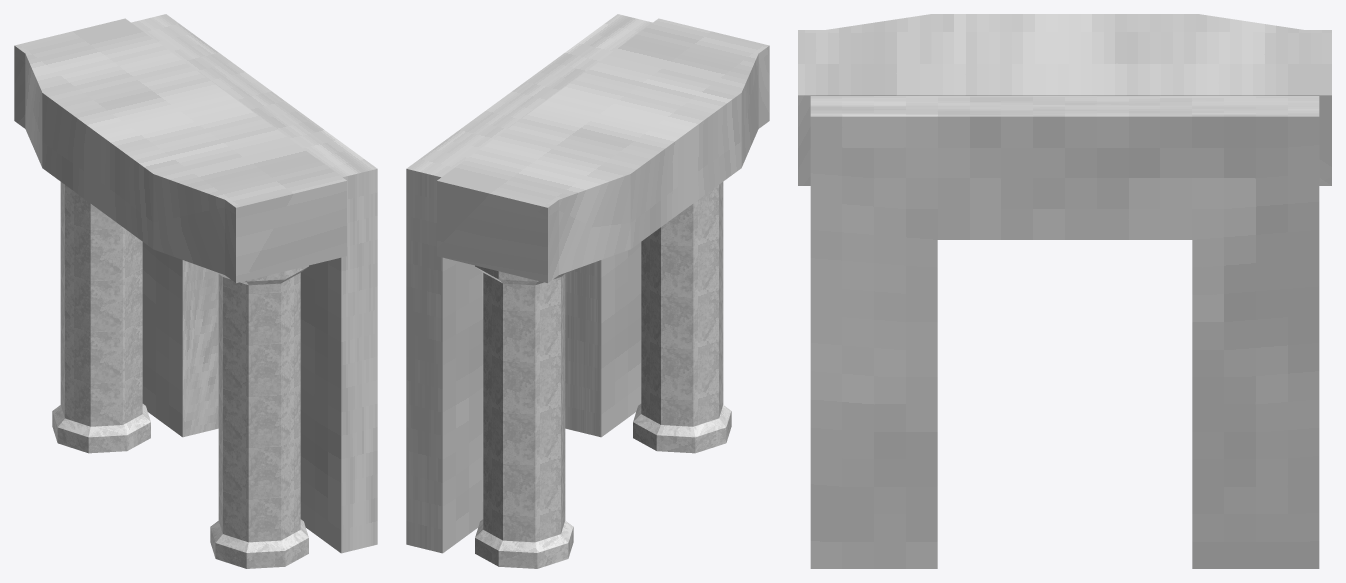
The model's file is entrance.glb.
3 renders of one model, left to right at view 1: azimuth 30°, elevation 25°; view 2: azimuth 150°, elevation 25°; view 3: azimuth 270°, elevation 25°, orthographic. The views are drawn at different scales.
Visible parts, largest first — view 1: Circle; view 2: Circle; view 3: Circle.
Boxes of the visible parts, bbox=[...] form: Circle: bbox=[14, 14, 377, 568]; Circle: bbox=[406, 14, 769, 568]; Circle: bbox=[798, 14, 1331, 568].
Size of the model in its own units: 1.91 by 3.95 by 4.21.
Materials: 1 (1 with a texture image).
